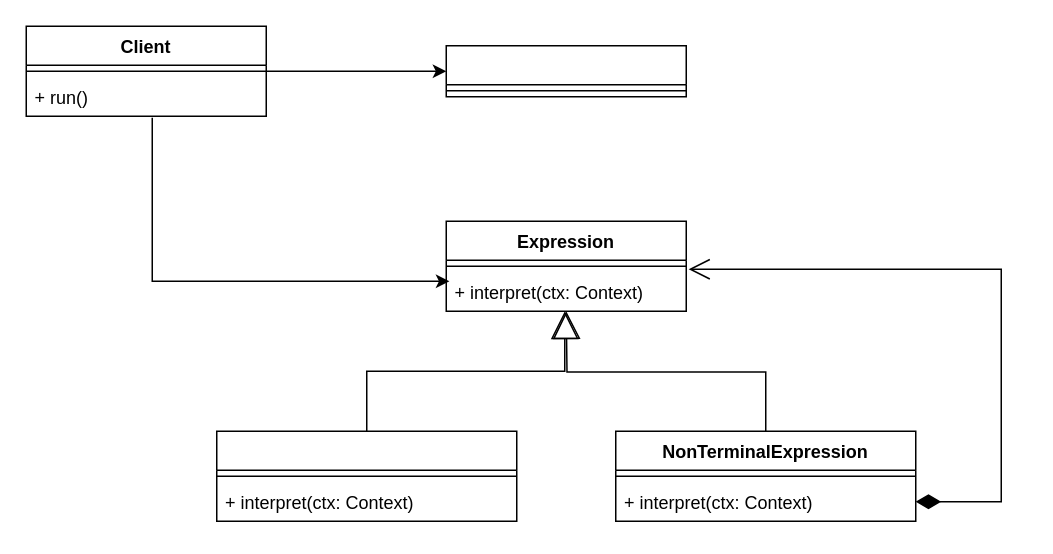
Image size: 1053x554. Some labels were removed from this diagram. Here are the shapes that lost their labels. From the top down, the box of each, then its label:
(445, 44, 686, 97): Context
(215, 430, 517, 521): TerminalExpression
